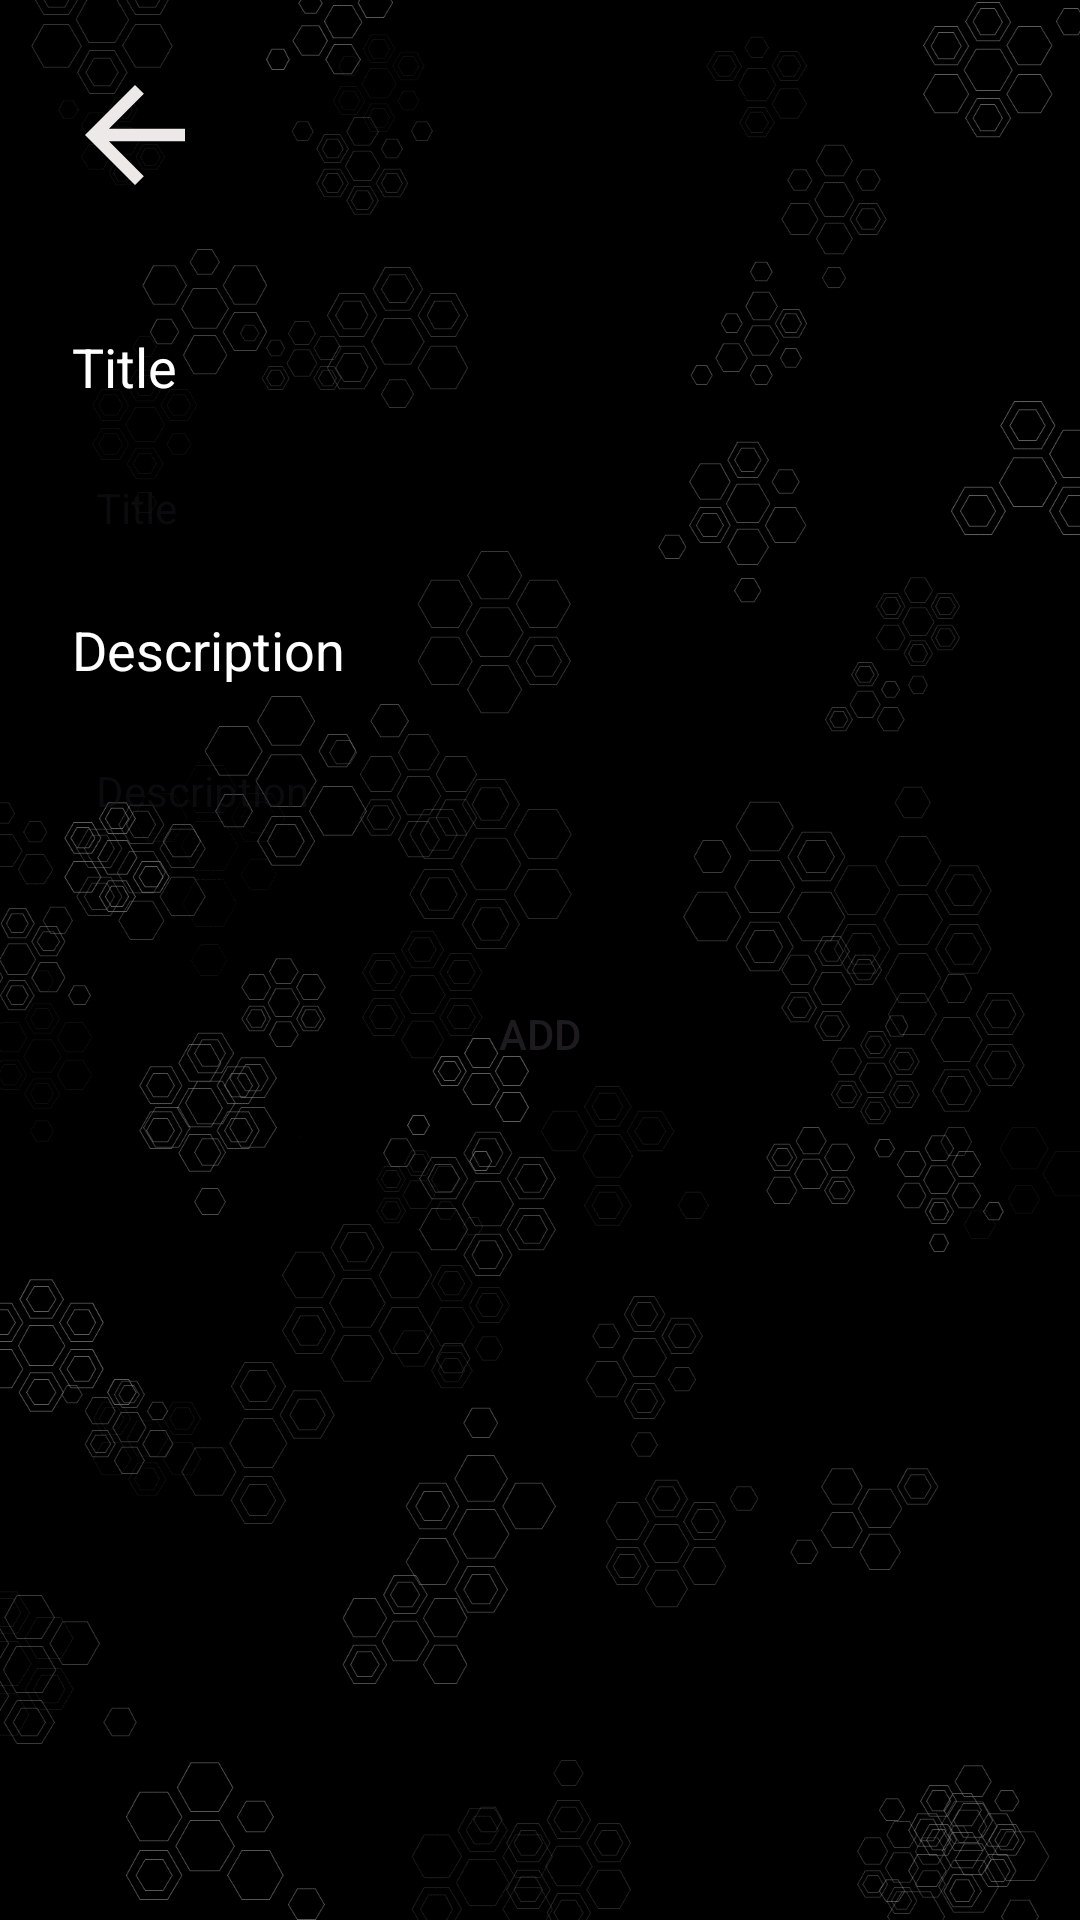

Where icons sit on this 1080*1920 app screen, as (x1, y1, x2, y2):
back: (85, 60, 185, 185)
